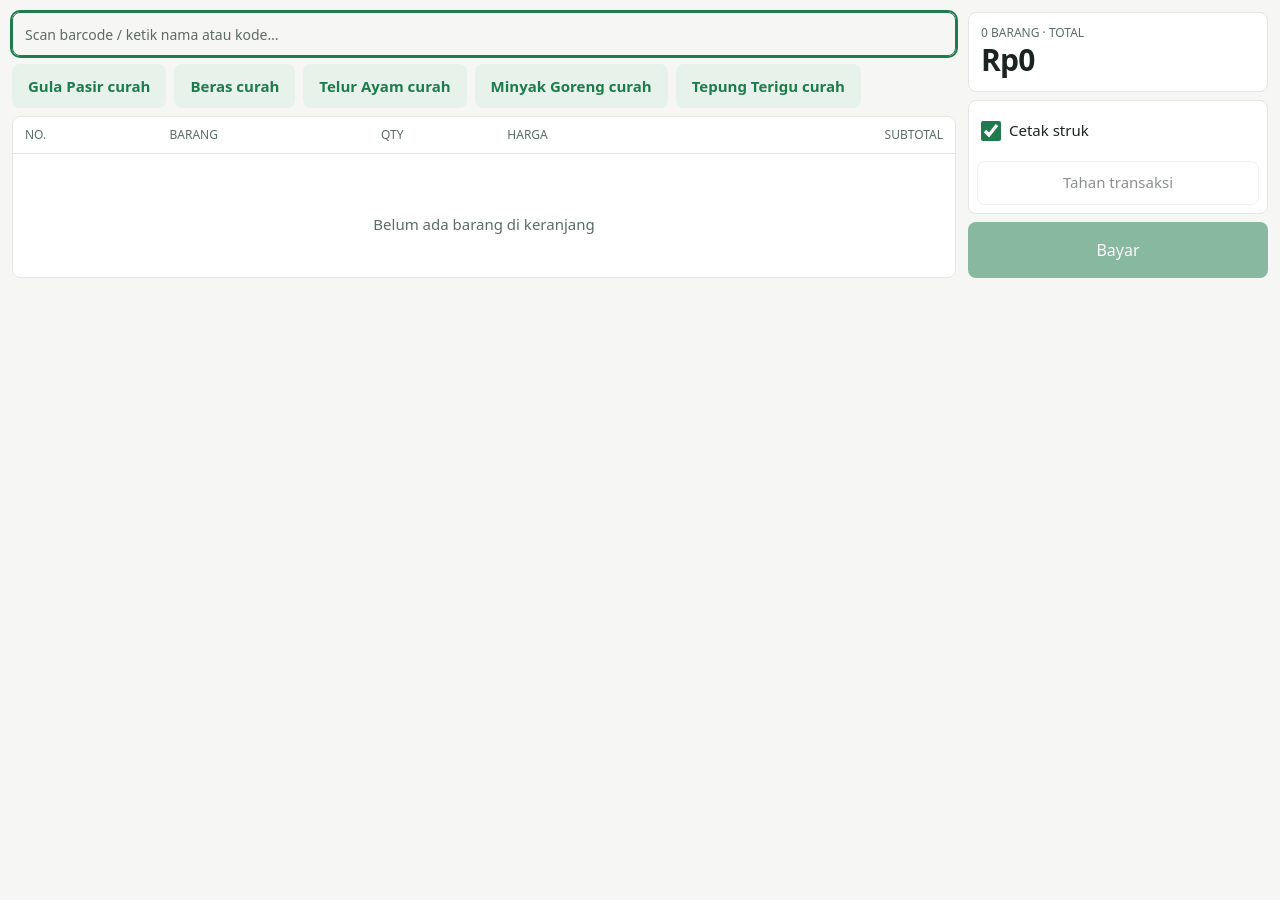
Scenario: di layar kasir, tombol curah menyimpan barang curah yang dibuka
The width and height of the screenshot is (1280, 900).
Click the button "Gula Pasir curah". click: (89, 86)
box: [12,64,166,108]
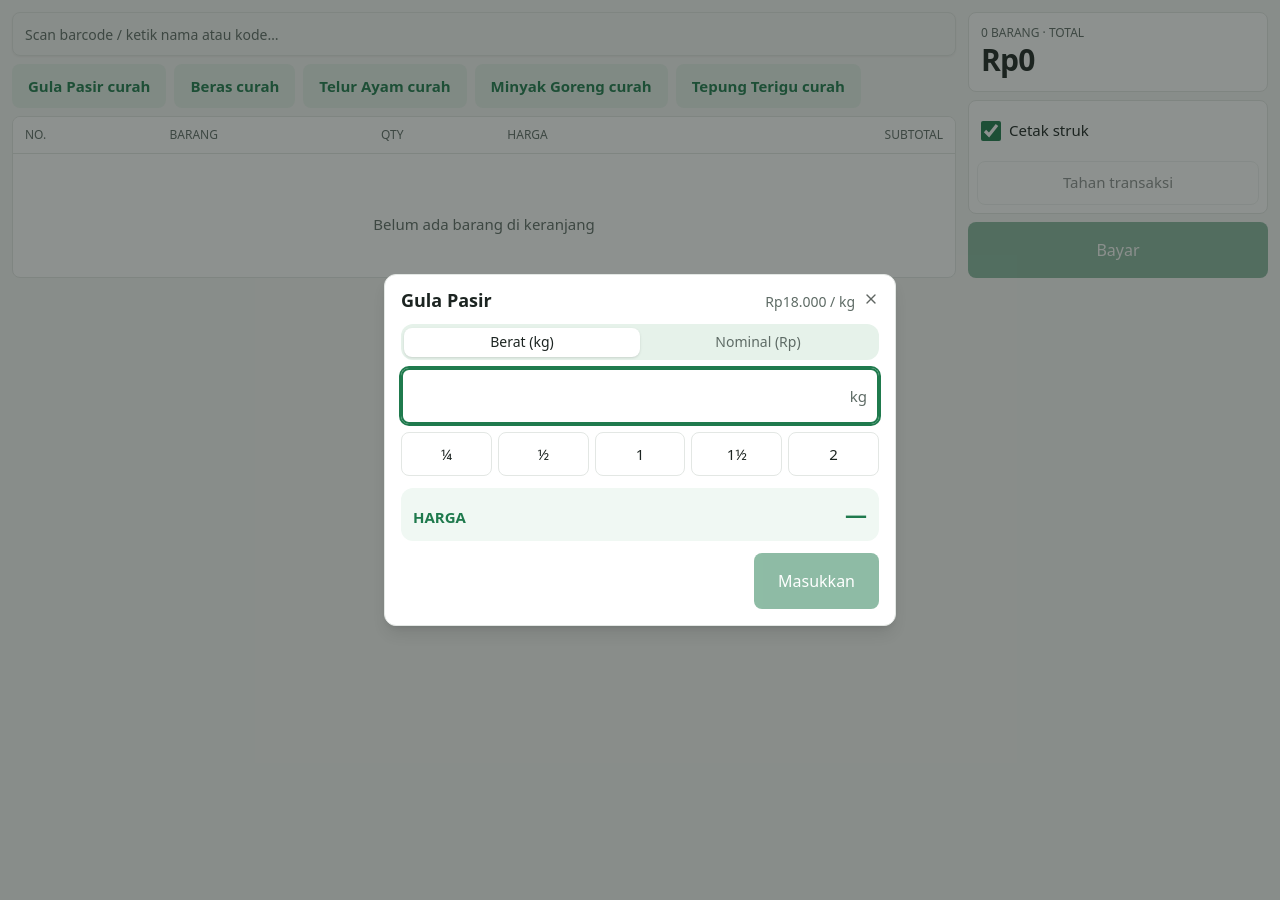
Result: the button "Gula Pasir curah" is expanded at [12,64,166,108]
